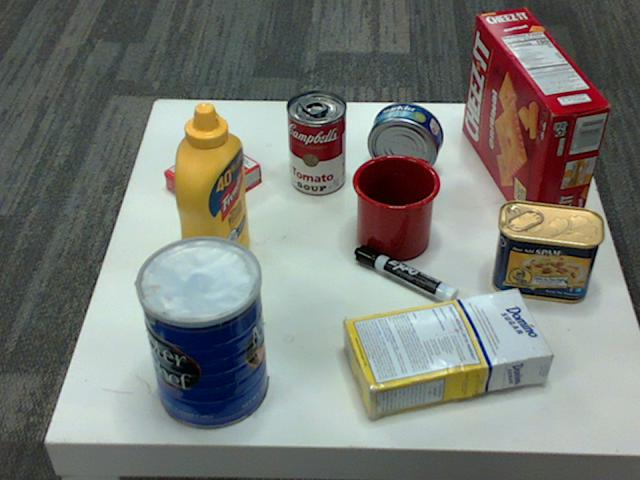cracker_box: (462, 6, 610, 234)
gelatin_box: (162, 136, 260, 212)
large_marker: (355, 246, 458, 310)
master_chef_can: (132, 238, 267, 432)
mug: (349, 153, 438, 259)
mustard_bottle: (172, 102, 248, 286)
potted_meat_can: (490, 201, 602, 303)
sugar_box: (339, 287, 550, 417)
tomato_soup_can: (286, 90, 346, 195)
tuna_fish_can: (366, 102, 442, 177)
